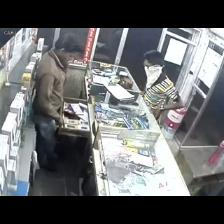person: (33, 35, 76, 170), (144, 51, 184, 119)
